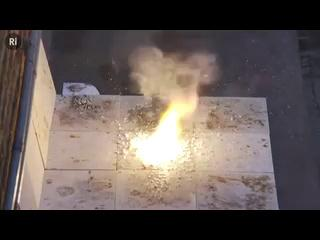Fire: (127, 102, 182, 173)
